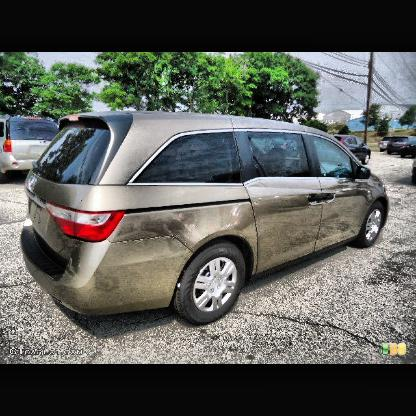Honda Odyssey Minivan 2012: (20, 109, 392, 330)
